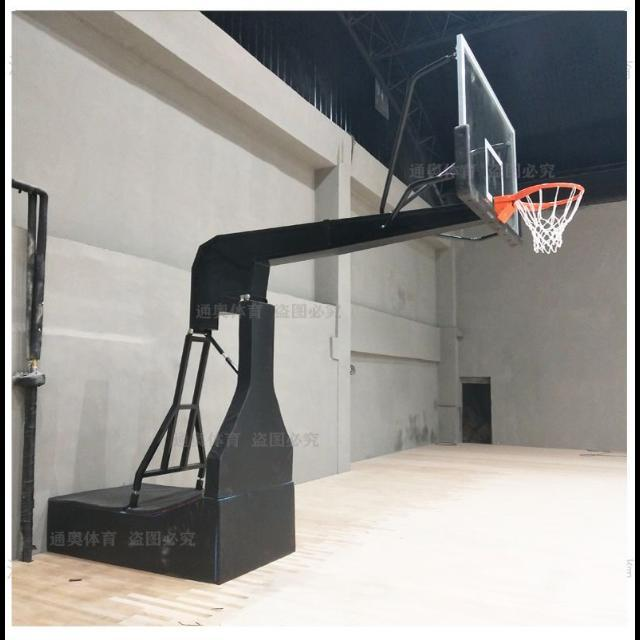rim: (516, 181, 586, 253)
